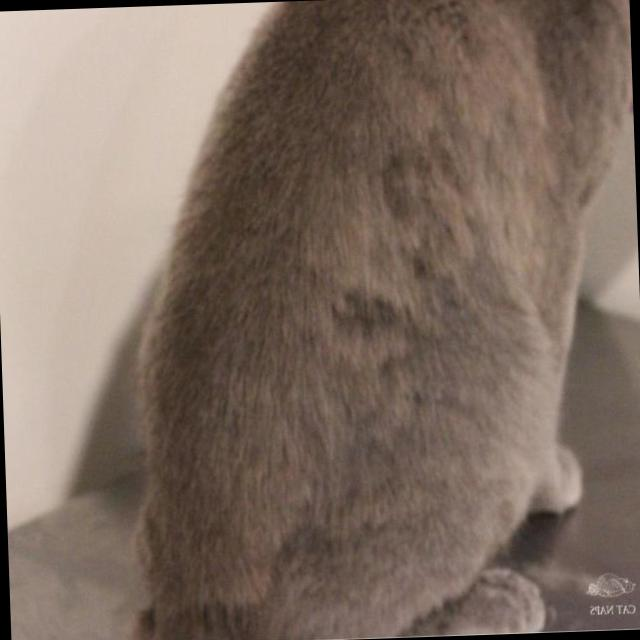Healthy skin: (278, 14, 420, 356), (424, 0, 618, 177), (211, 437, 428, 592), (436, 208, 566, 402), (204, 172, 276, 403)
